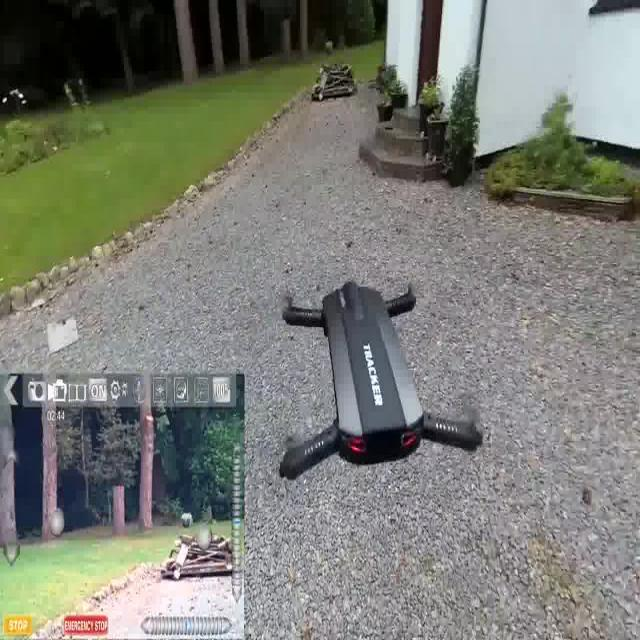Drone_FW: (278, 278, 482, 481)
